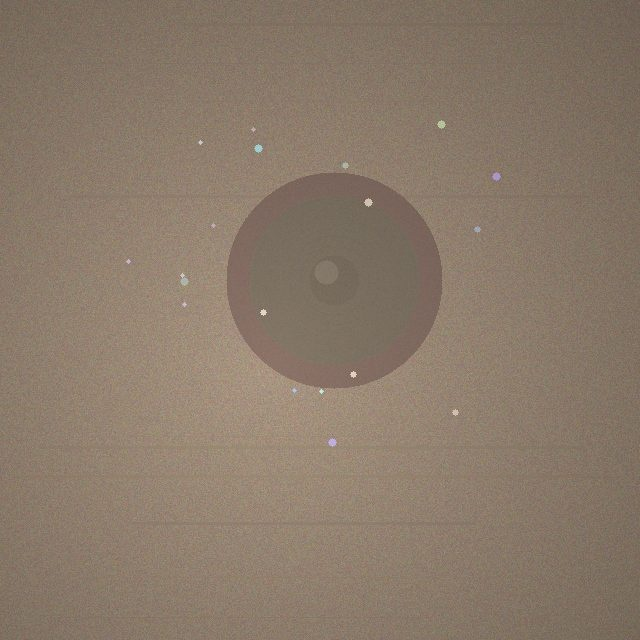overburn: (226, 172, 442, 388)
